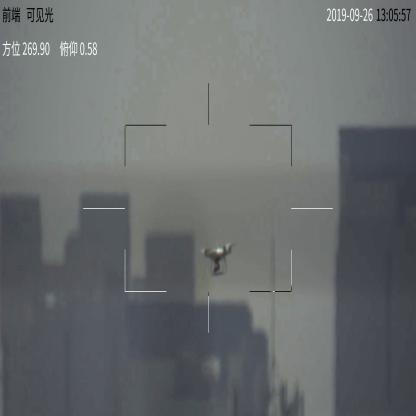uav: (196, 243, 232, 277)
